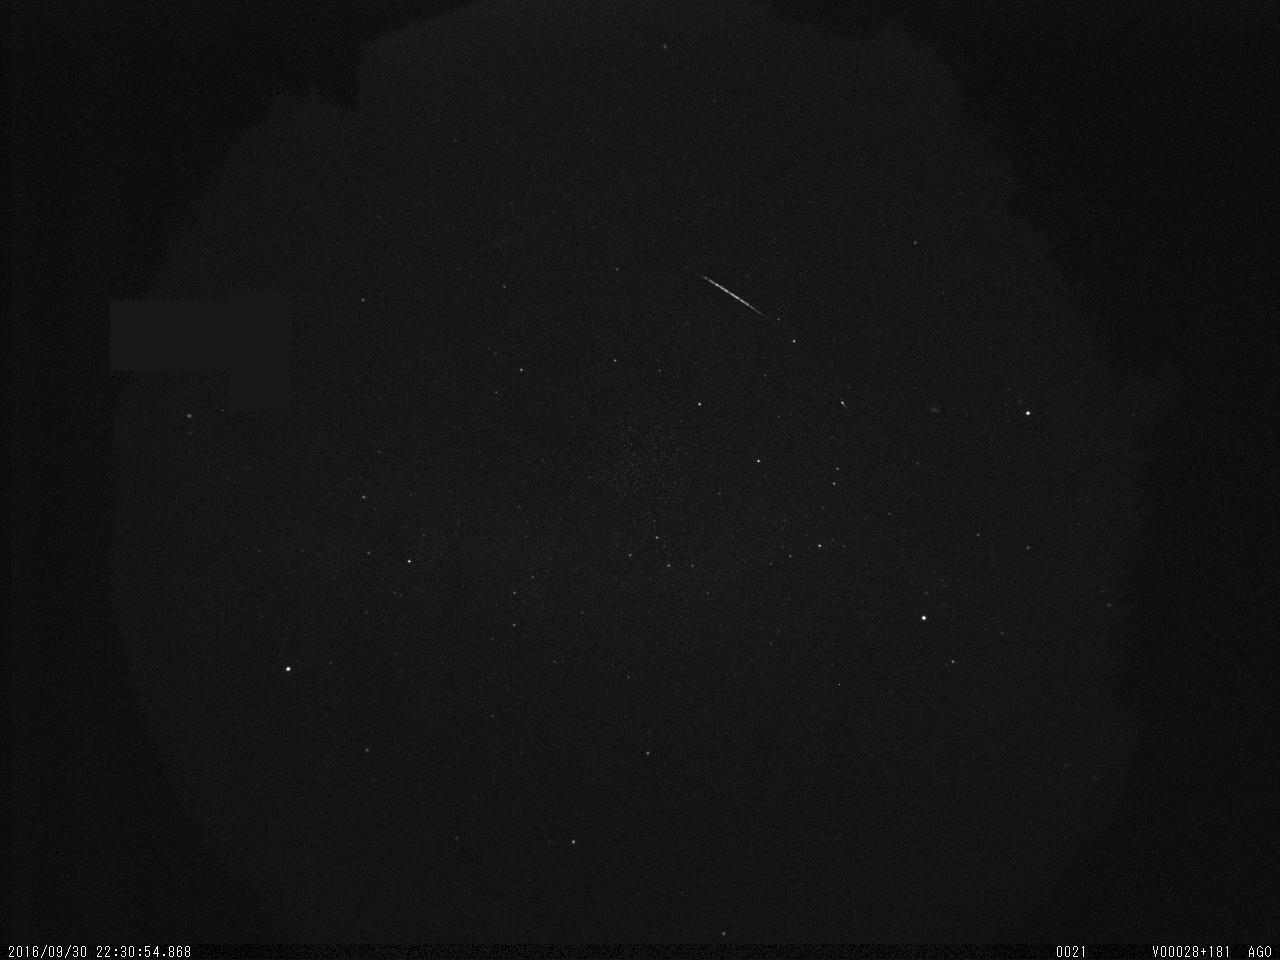meteor: (693, 269, 768, 314)
